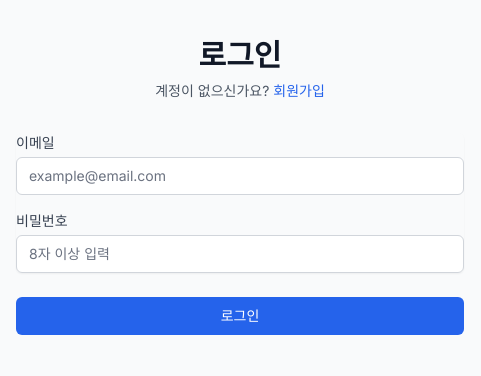
Scenario: LoginPage › 폼 검증 › 빈 이메일로 제출 시 에러 메시지가 표시된다
Click the button "로그인": {"x": 240, "y": 316} [16,297,464,335]
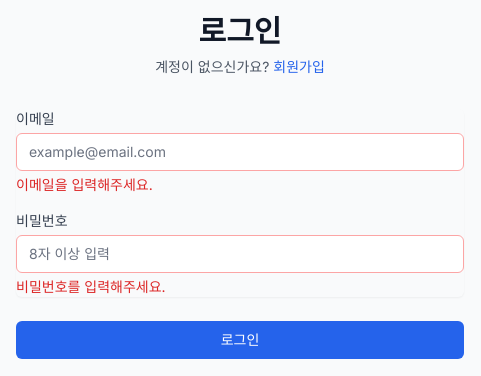
Now the text "이메일을 입력해주세요." is shown, box [16,176,153,193]
